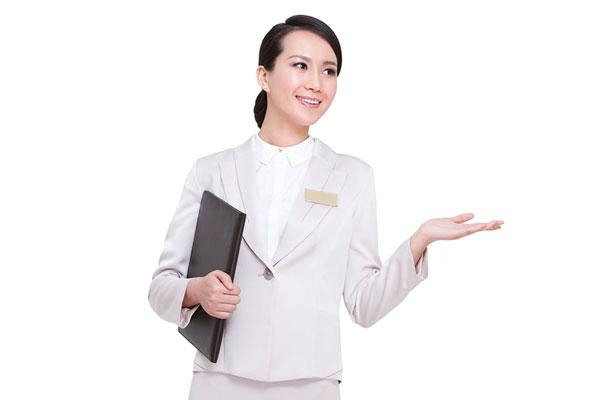no-phone: (416, 208, 506, 246)
